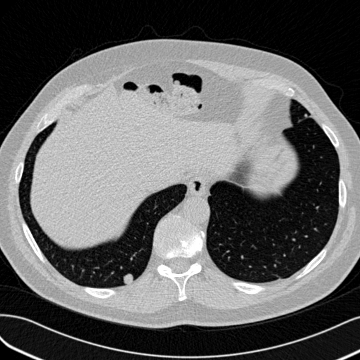nodule: (123, 274, 133, 284)
